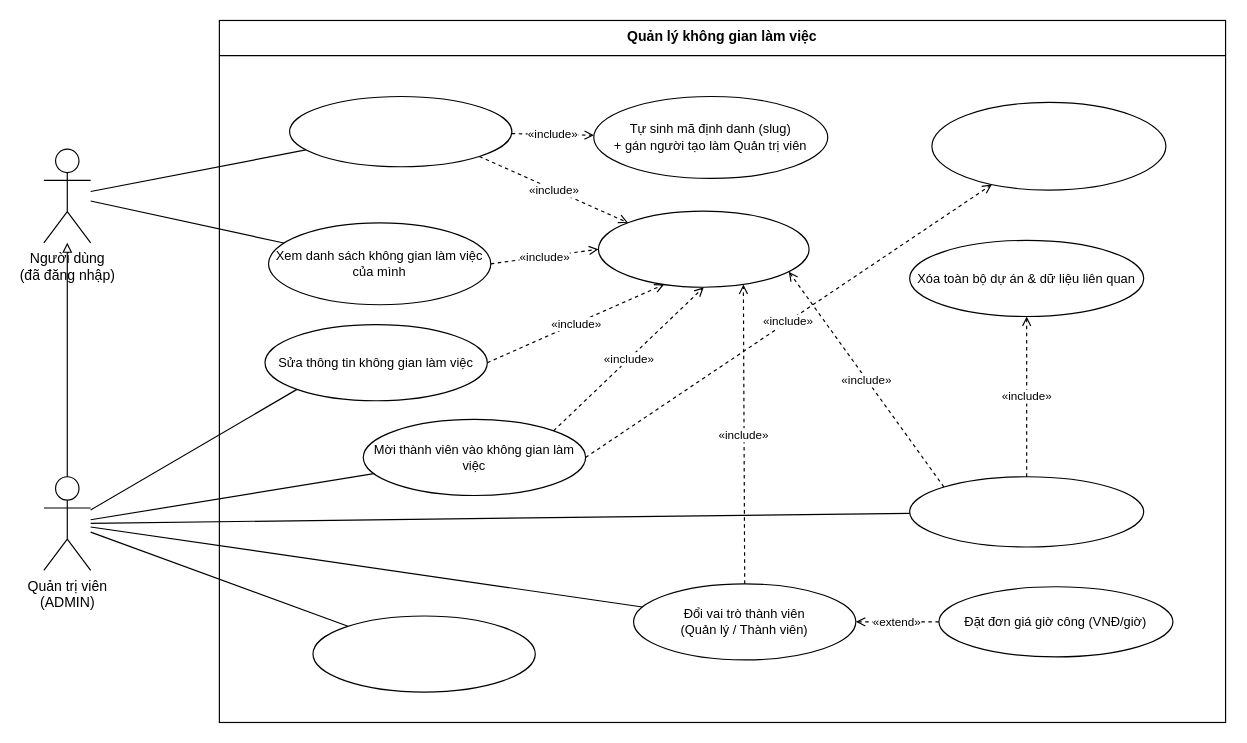
Image size: 1247x743. Some labels were removed from this diagram. Here are the shapes that lost their labels. From the top down, the box of each, then its label:
(288, 95, 512, 167): Tạo không gian làm việc
(931, 101, 1166, 190): Người được mời phải có tài khoản + không mời vai trò Quản trị viên
(597, 210, 809, 287): Đăng nhập
(909, 476, 1144, 547): Xóa không gian làm việc
(312, 615, 535, 692): Xóa thành viên khỏi không gian làm việc
